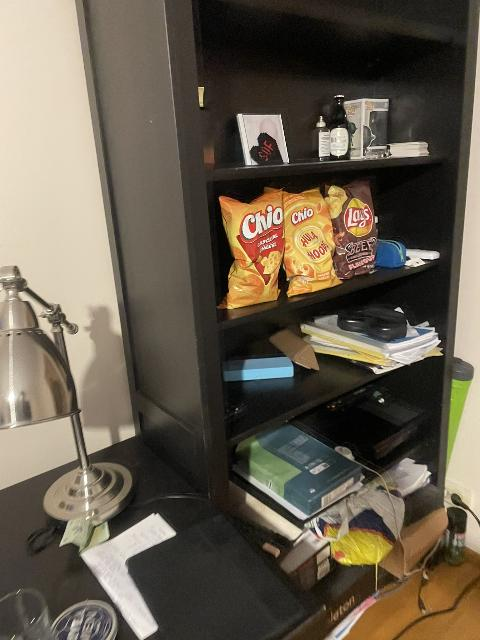Chio Cascaval 125g: (216, 188, 284, 308)
Chio Hula Hoops Cheese 70g: (281, 185, 341, 296)
Lays Beef Grilled Ribs 125g: (324, 179, 380, 281)
